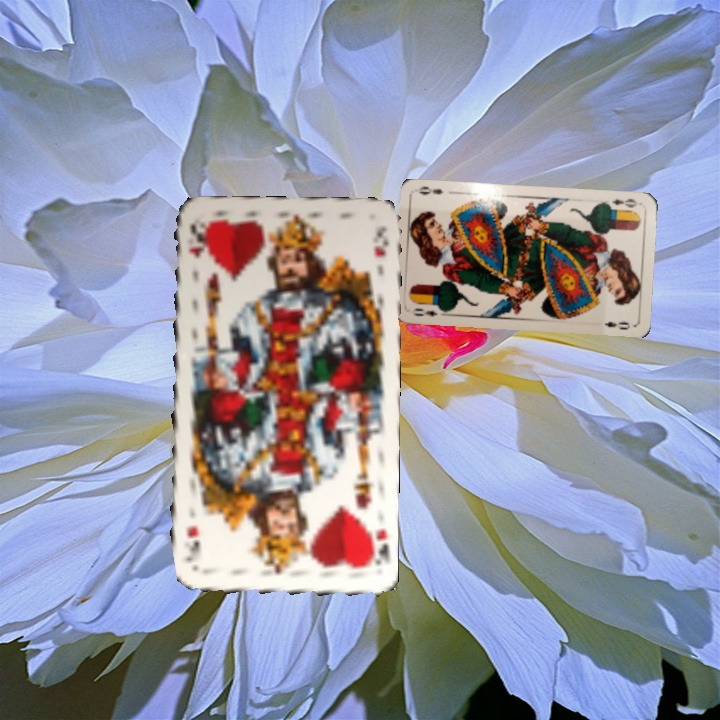EO: (608, 195, 643, 210), (408, 304, 440, 319)
HK: (363, 518, 390, 569), (185, 221, 207, 261)
